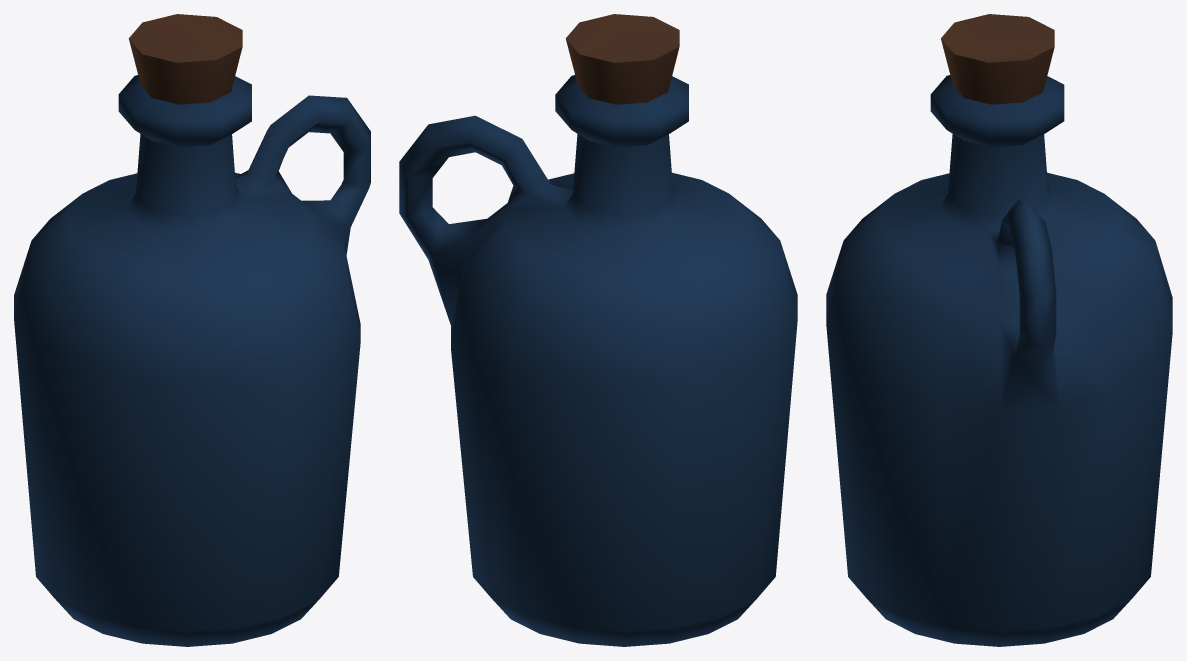
The model's file is obj_bottle_A.FBX.
3 renders of one model, left to right at view 1: azimuth 30°, elevation 25°; view 2: azimuth 150°, elevation 25°; view 3: azimuth 270°, elevation 25°, orthographic.
Parts seen in each view (by area): view 1: obj_bottle_A; view 2: obj_bottle_A; view 3: obj_bottle_A.
Boxes of the visible parts, x1,y1,x2,y2 form: obj_bottle_A: [14, 14, 370, 646]; obj_bottle_A: [399, 14, 797, 646]; obj_bottle_A: [826, 14, 1172, 646].
Size of the model in its own units: 0.7325 by 1.09 by 0.6165.
